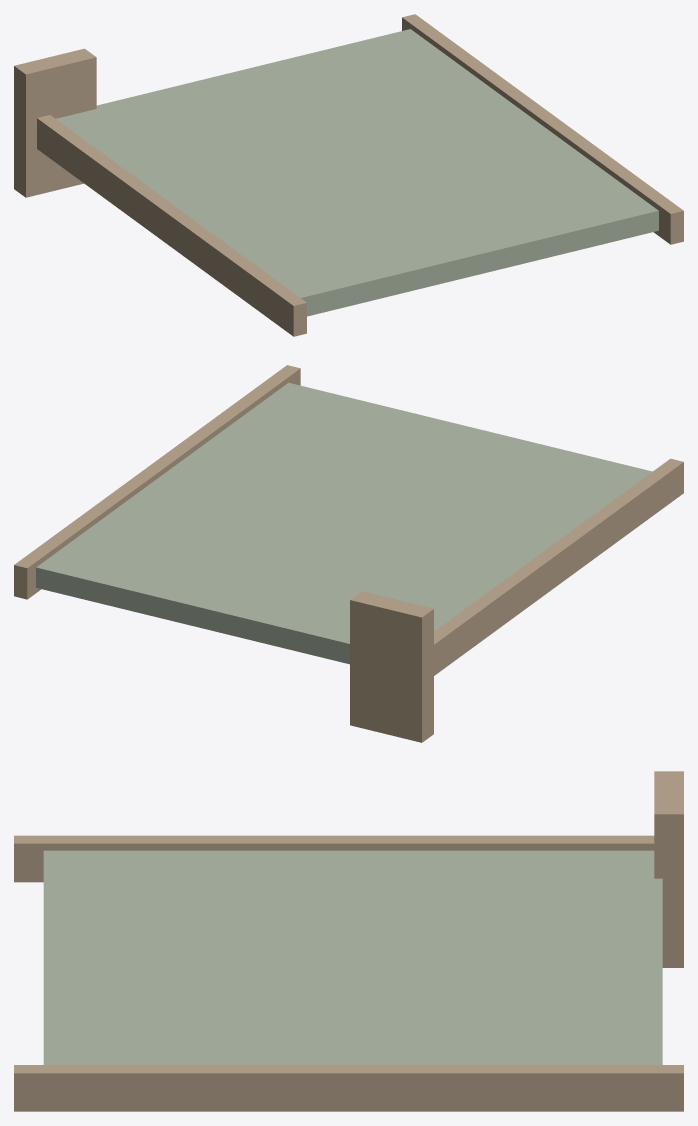
The model's file is room_divider.glb.
3 renders of one model, top to bottom at view 1: azimuth 30°, elevation 25°; view 2: azimuth 150°, elevation 25°; view 3: azimuth 270°, elevation 25°, orthographic. The views are drawn at different scales.
Visible parts, largest first — view 1: fabric_panel, post_-0.64, foot_-0.58, post_0.64; view 2: fabric_panel, post_-0.64, foot_-0.58, post_0.64; view 3: fabric_panel, post_0.64, post_-0.64, foot_-0.58.
Boxes of the visible parts, left/top/right/bottom form: fabric_panel: left=56, top=29, right=658, bottom=316; post_-0.64: left=37, top=115, right=306, bottom=336; foot_-0.58: left=14, top=48, right=96, bottom=197; post_0.64: left=402, top=14, right=683, bottom=244; fabric_panel: left=36, top=382, right=652, bottom=664; post_-0.64: left=397, top=458, right=683, bottom=692; foot_-0.58: left=350, top=591, right=433, bottom=742; post_0.64: left=14, top=365, right=300, bottom=599; fabric_panel: left=43, top=850, right=662, bottom=1064; post_0.64: left=14, top=1065, right=683, bottom=1111; post_-0.64: left=14, top=835, right=654, bottom=882; foot_-0.58: left=654, top=771, right=683, bottom=967.
Bounding box in the file's own units: 1.36 × 0.4 × 1.58.
